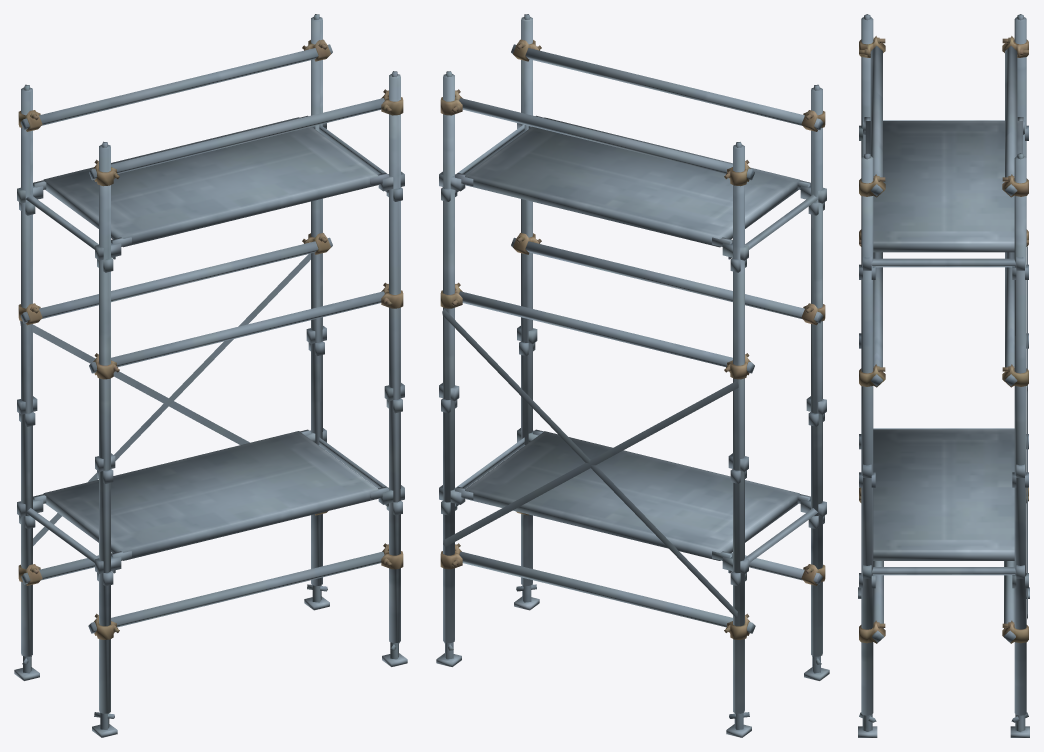
3 views of the same model, side by side, from view 1: azimuth 30°, elevation 25°; view 2: azimuth 150°, elevation 25°; view 3: azimuth 270°, elevation 25° (orthographic).
Size of the model in its own units: 20 by 36.77 by 9.88.
1 material, 1 textured.
